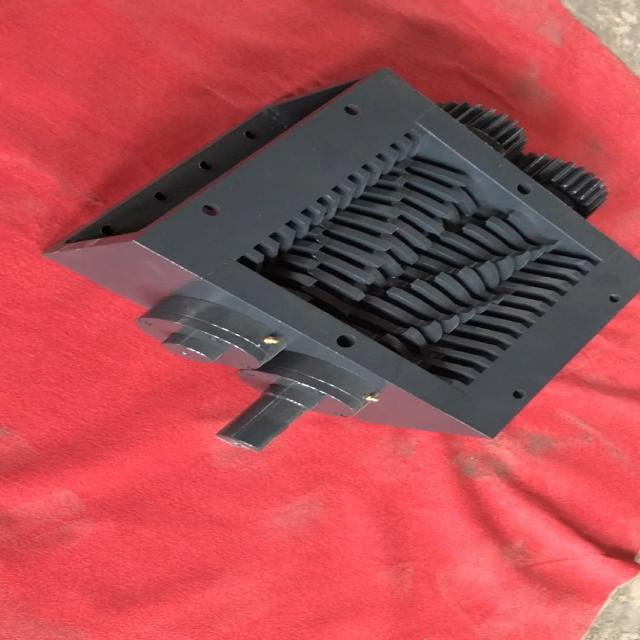Broyeur: (234, 120, 610, 391)
